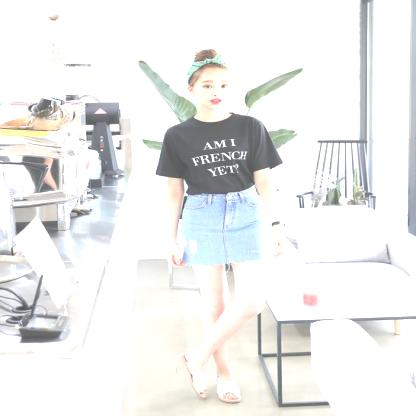dress: (161, 109, 285, 199)
jacket: (175, 183, 278, 267)
